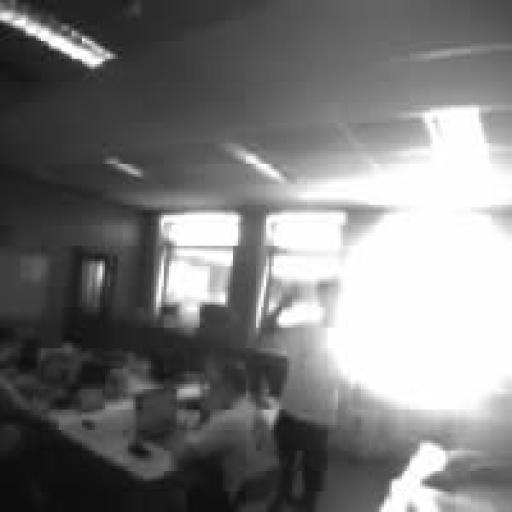human: (274, 282, 340, 511), (172, 361, 271, 511), (0, 329, 46, 444)
